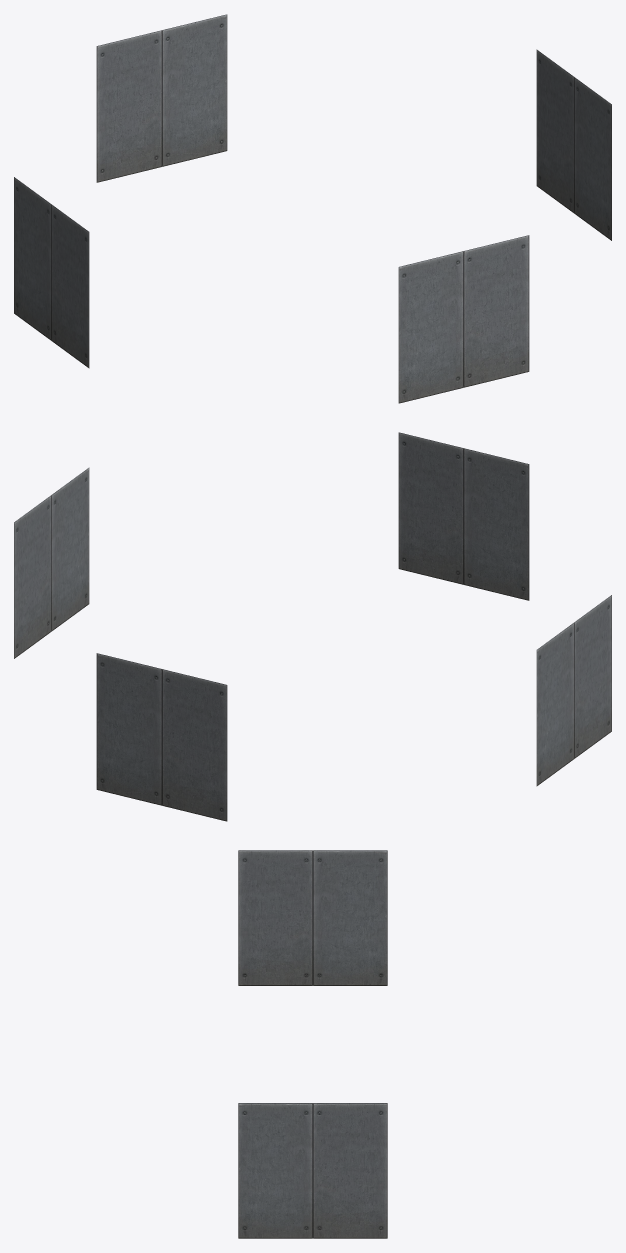
Rendered from dead end.fbx.
3 renders of one model, top to bottom at view 1: azimuth 30°, elevation 25°; view 2: azimuth 150°, elevation 25°; view 3: azimuth 270°, elevation 25°, orthographic.
Visible parts, largest first — view 1: Plane; view 2: Plane; view 3: Plane.
Part boxes in pixels (x1,y1,x2,y2): Plane: [14, 14, 611, 403]; Plane: [14, 432, 611, 821]; Plane: [238, 850, 387, 1238].
Size of the model in its own units: 16 by 4 by 16.
